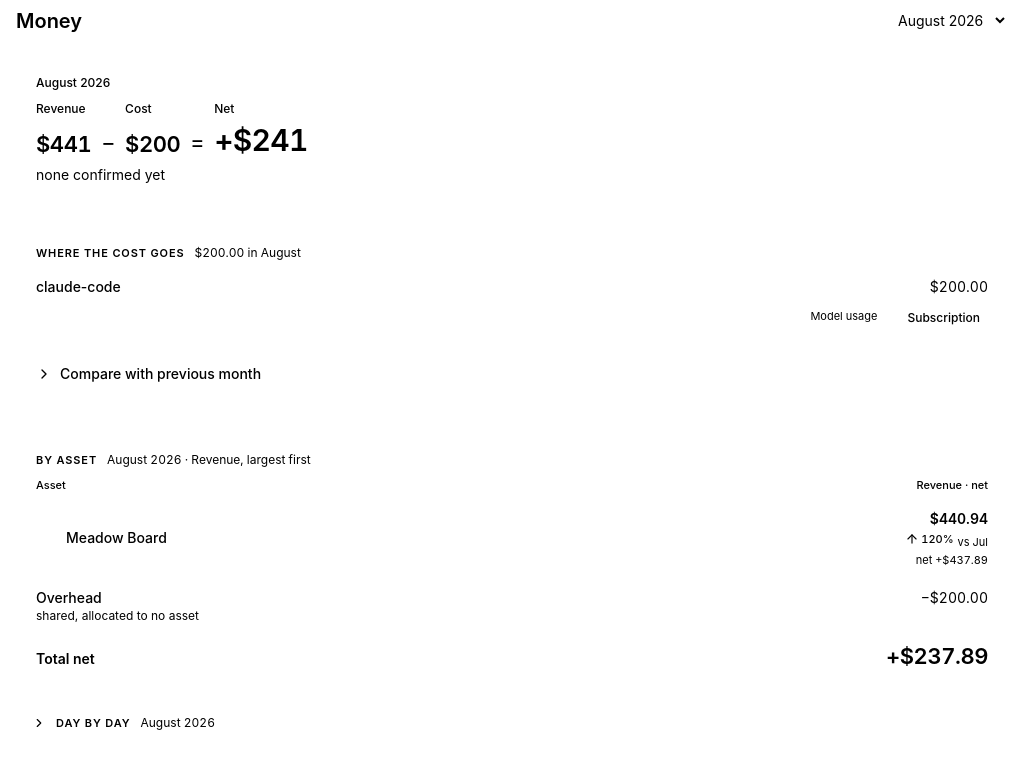
Test: shows only the missing asset as short when two assets share a display name
This screenshot has width=1024, height=759.
Click the button "Day by day August 2026" at (93,723), box x1=16 y1=703 x2=1008 y2=743
(page scrolled)
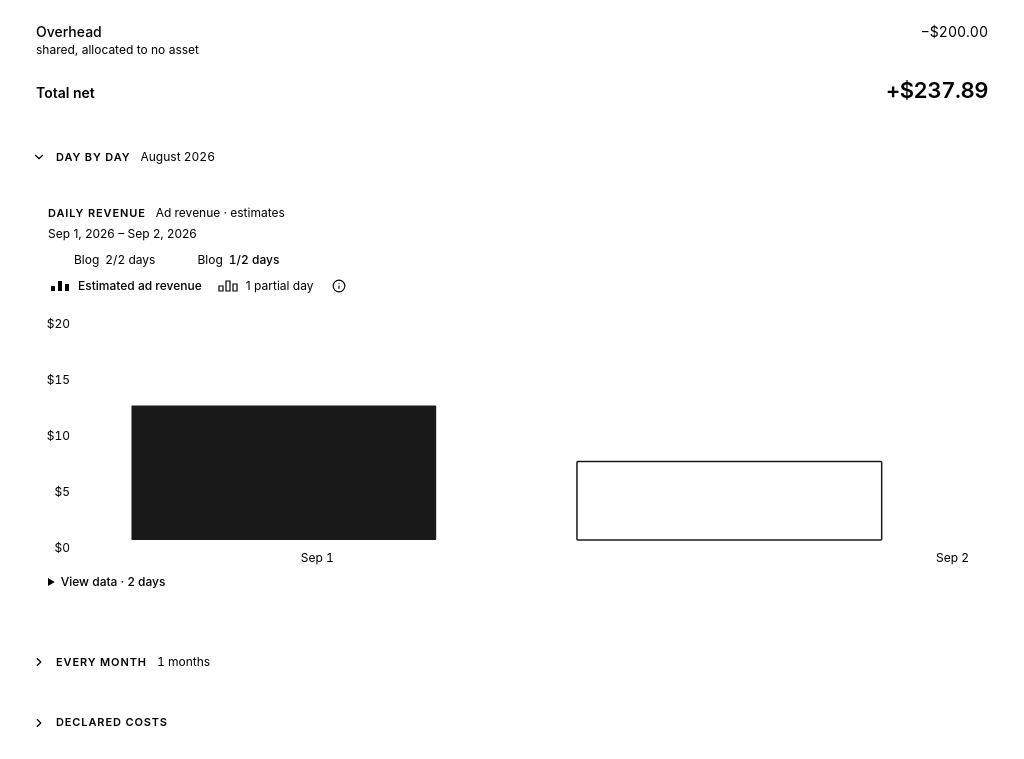
Check: the list item "Blog 2/2 days" is shown, box x1=74 y1=252 x2=155 y2=267
Check: the list item "Blog 1/2 days" is shown, box x1=197 y1=252 x2=279 y2=267
Check: the text "1/2 days" is shown, box x1=229 y1=252 x2=279 y2=268
Press End in the element named "Explore Estimated ad revenue values", box x1=78 y1=306 x2=969 y2=546
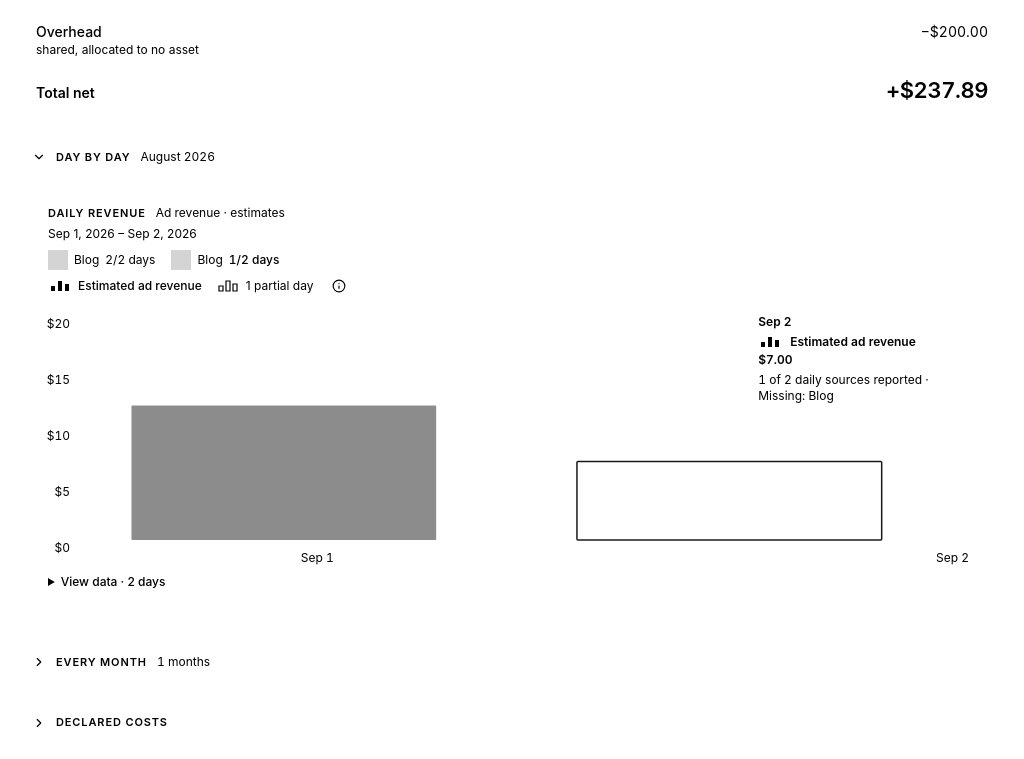
Check: the message does not show "second.example", box x1=758 y1=314 x2=929 y2=403
Check: the message shows "Missing: Blog", box x1=758 y1=372 x2=929 y2=403
